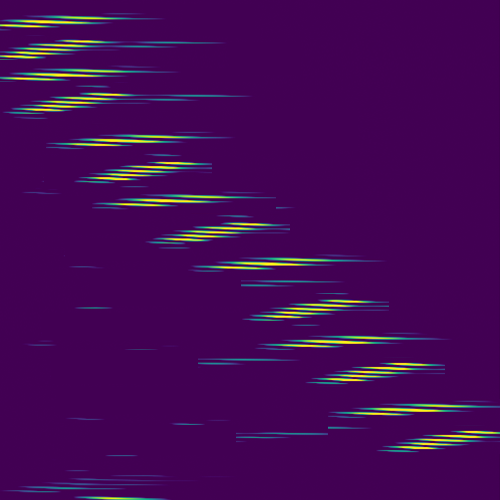semblance: (7, 90, 138, 116), (1, 37, 123, 63), (388, 427, 500, 455), (85, 157, 199, 183), (320, 359, 434, 384), (157, 219, 274, 243), (263, 297, 372, 322), (351, 398, 473, 419), (1, 13, 135, 32), (111, 191, 235, 209), (60, 132, 190, 149), (210, 253, 326, 272), (1, 66, 137, 82), (278, 334, 401, 350)
